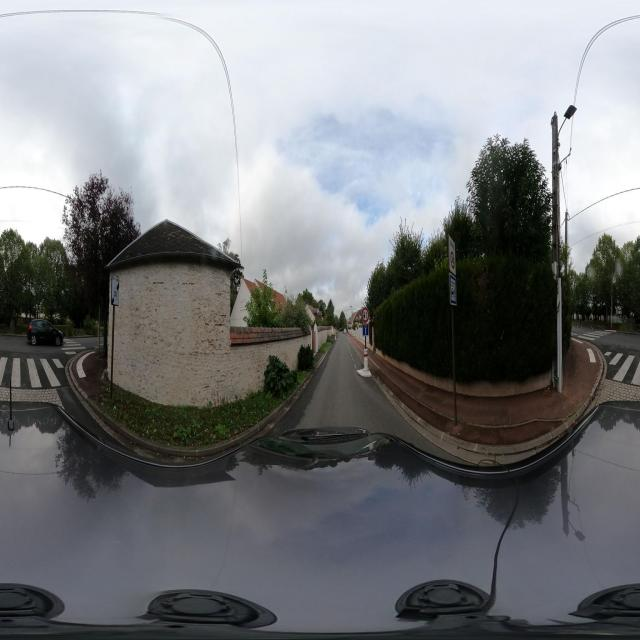car: (26, 317, 64, 347)
